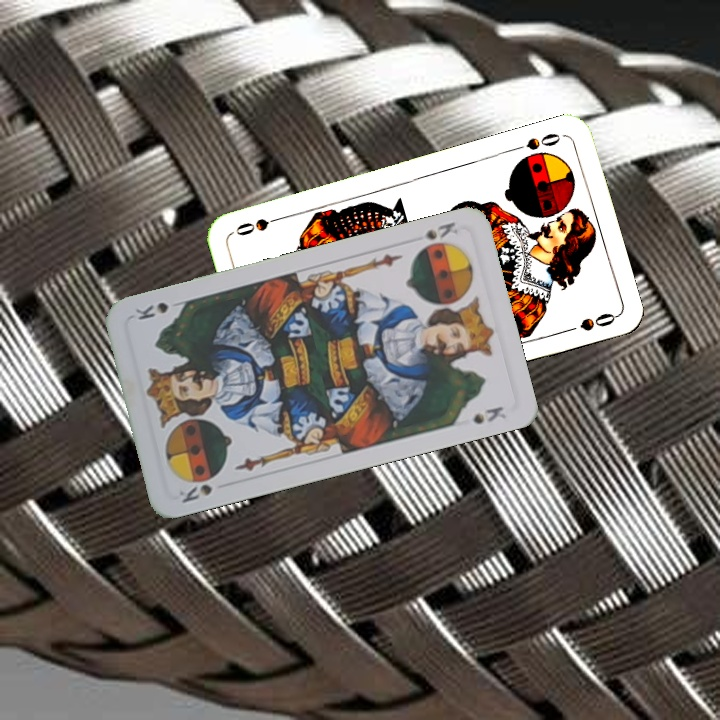SK: (419, 217, 460, 243), (175, 480, 215, 506)
SO: (508, 129, 563, 154)
